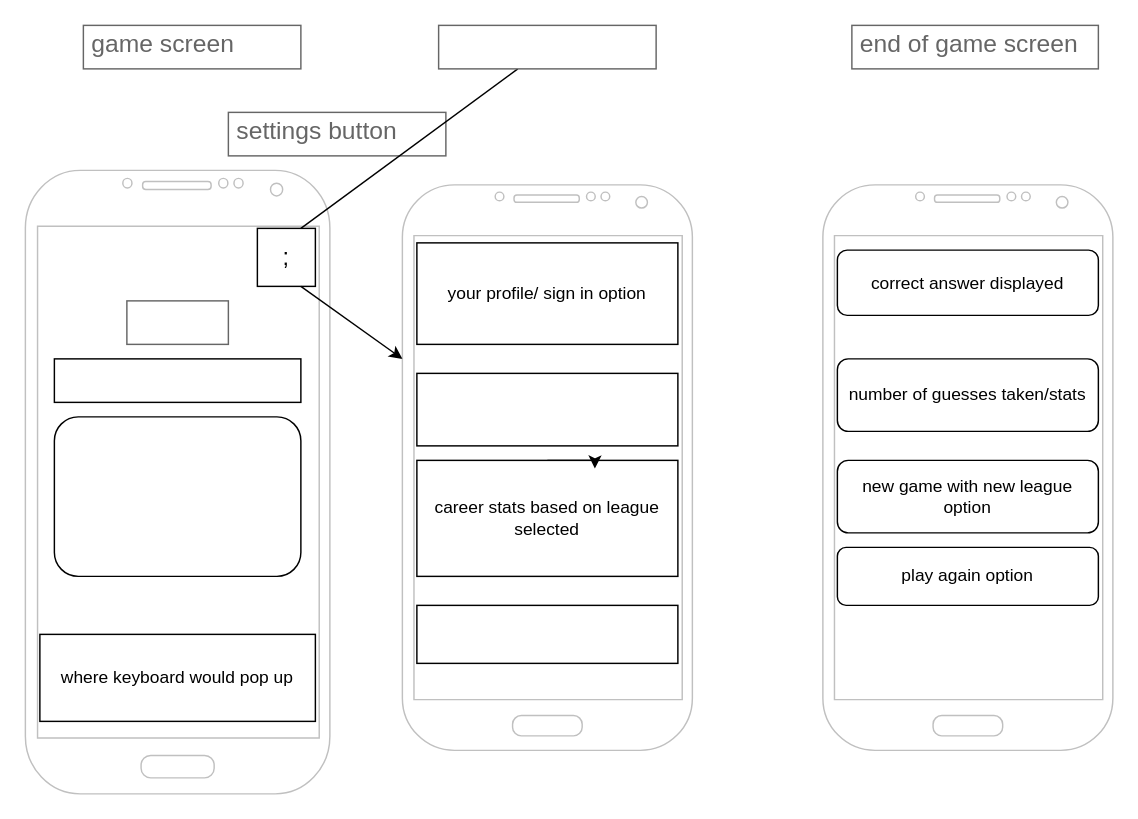
Image size: 1138x819. Some labels were removed from this diagram. The shapes that lost their labels are listed below. From the top down, each one's box as (x1, y1, x2, y2) in pixels, then its label:
(437, 24, 656, 69): settings screen
(125, 299, 228, 344): Teamle
(53, 357, 301, 402): guess-list drop box
(415, 372, 678, 446): select leagues option
(53, 415, 301, 576): list of guesses/ answers for each category
(415, 604, 678, 663): leave current game option
